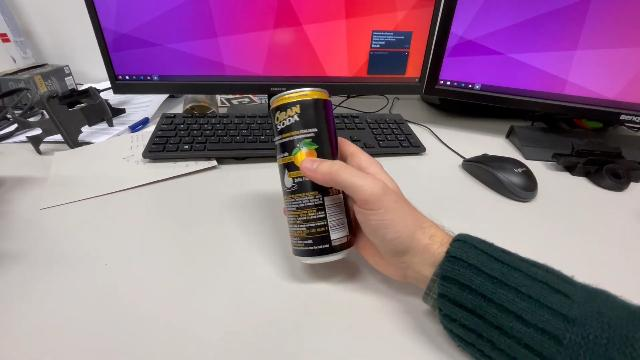OranSoda: (269, 85, 359, 267)
